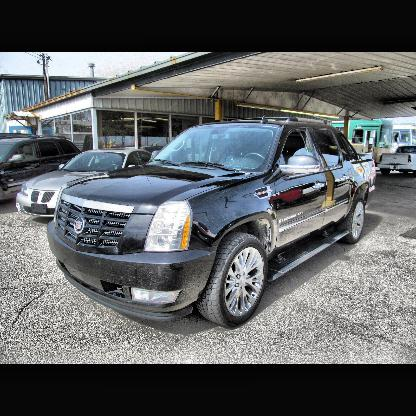Cadillac Escalade EXT Crew Cab 2007: (45, 120, 377, 332)
